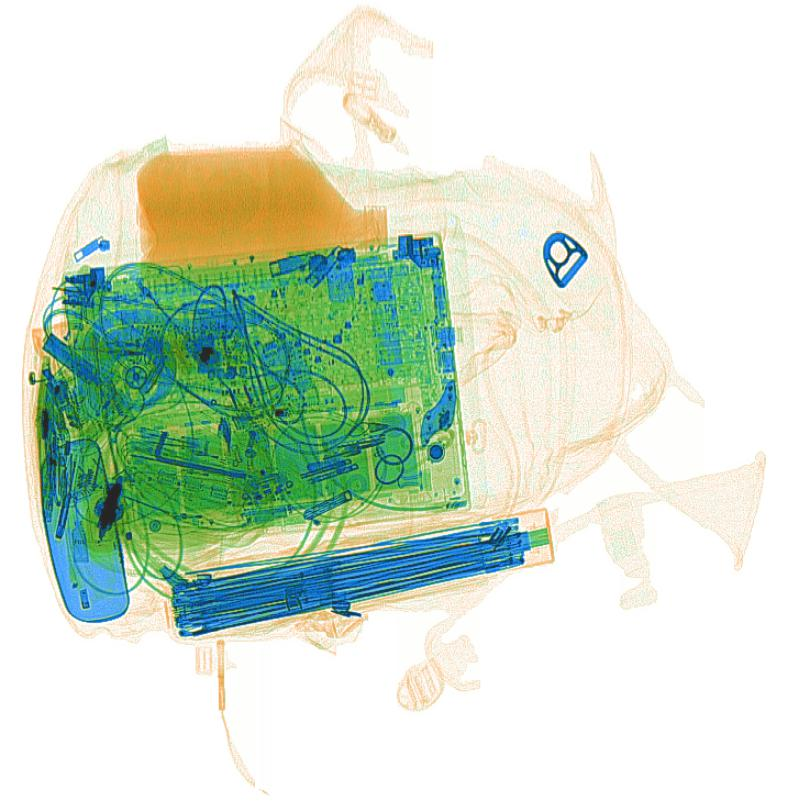battery: (41, 332, 99, 383)
